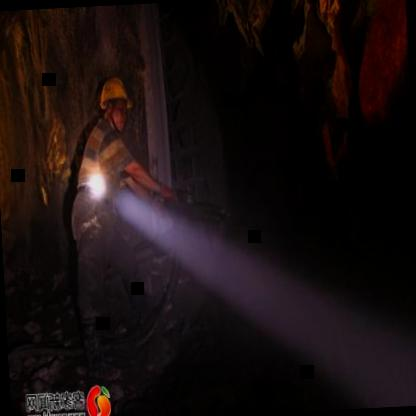helmet: (95, 72, 134, 134)
